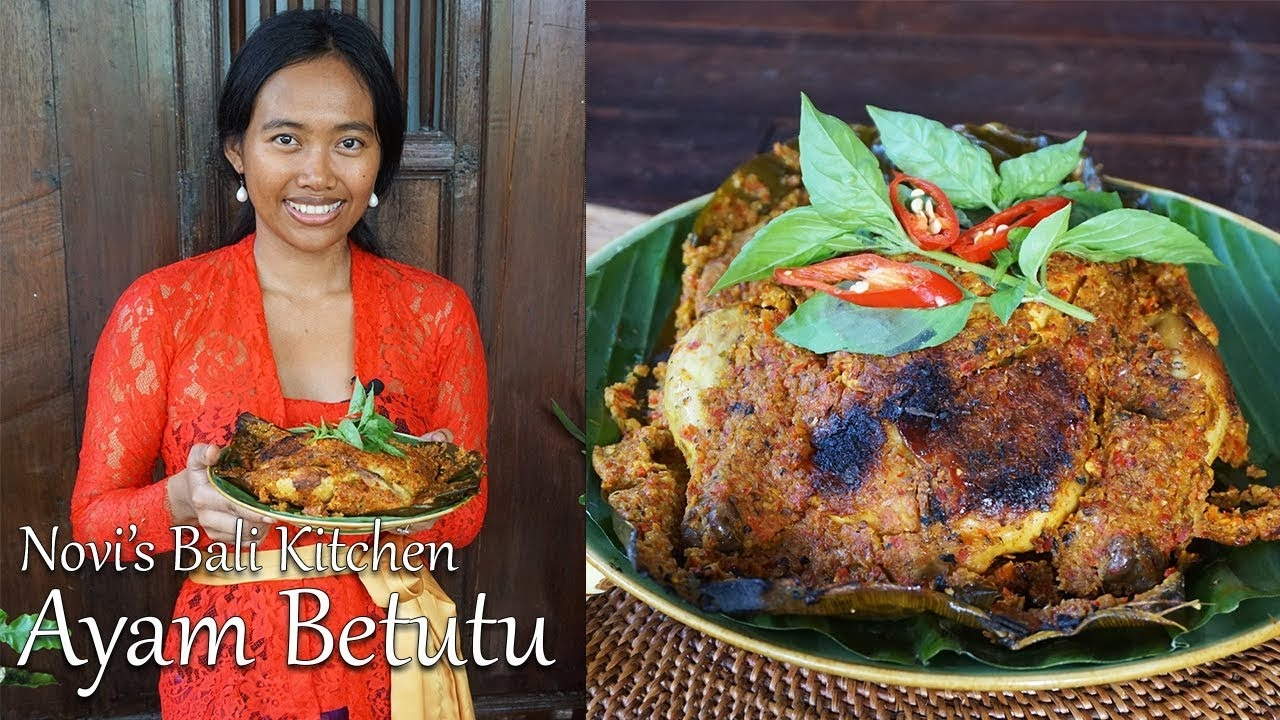ayam_betutu: (592, 359, 1280, 582)
